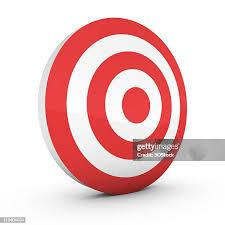target_red: (37, 16, 188, 195)
